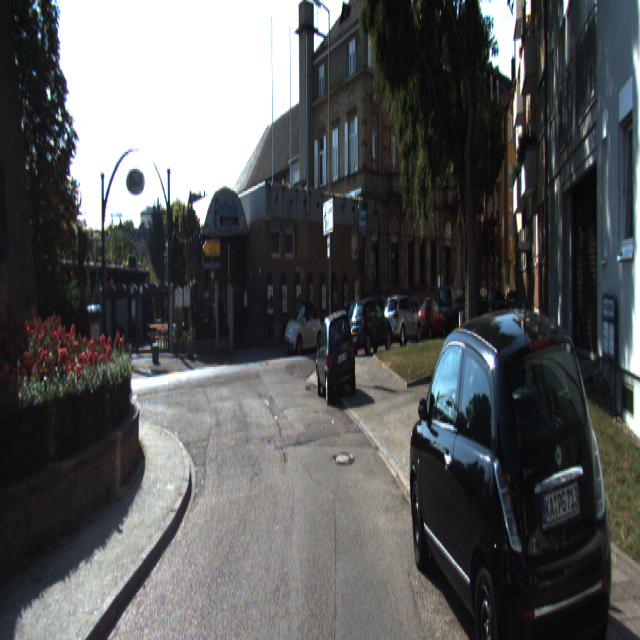Car: (407, 302, 626, 638), (315, 309, 356, 399), (350, 296, 393, 358), (284, 299, 323, 356), (383, 294, 421, 349), (437, 284, 470, 336), (418, 294, 446, 340)
